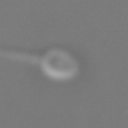normal: (1, 39, 43, 68)
